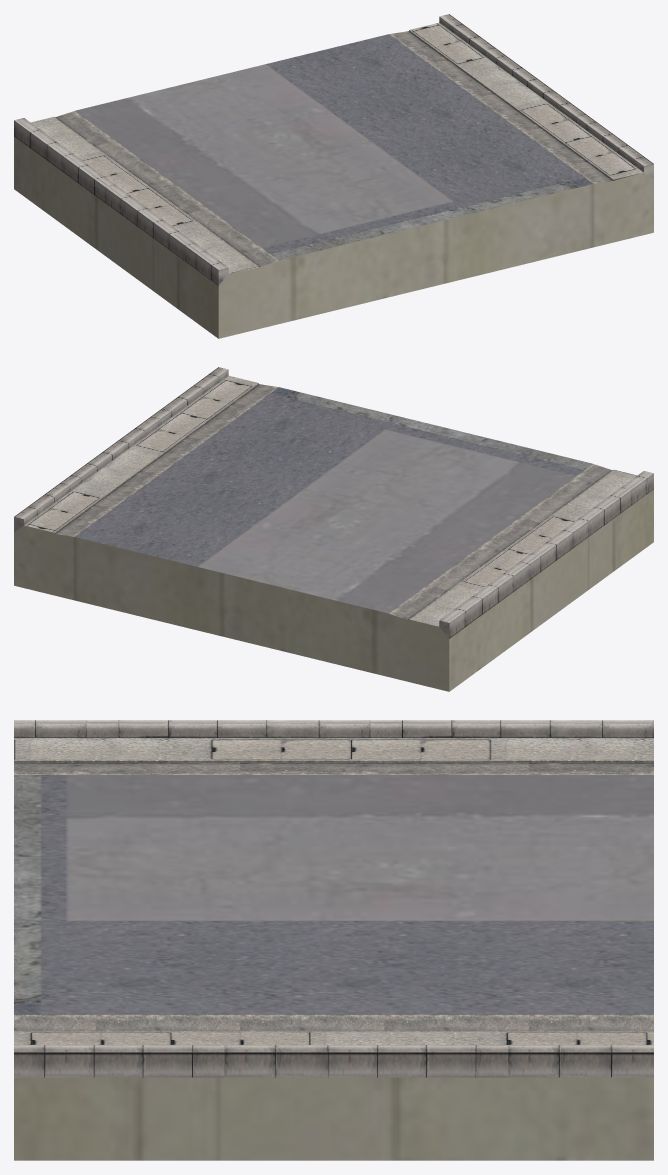
Rendered from road_c1_st0.fbx.
3 views of the same model, one above another, from view 1: azimuth 30°, elevation 25°; view 2: azimuth 150°, elevation 25°; view 3: azimuth 270°, elevation 25° (orthographic). The views are drawn at different scales.
Visible parts, largest first — view 1: road_c1_st0; view 2: road_c1_st0; view 3: road_c1_st0.
Part boxes in pixels (x1,y1,x2,y2): road_c1_st0: (14,14,653,338); road_c1_st0: (14,367,653,691); road_c1_st0: (14,720,653,1160).
Size of the model in its own units: 430 by 65 by 350.
